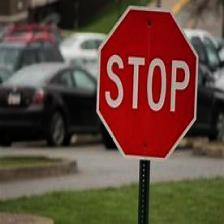Stop: (96, 4, 200, 160)
